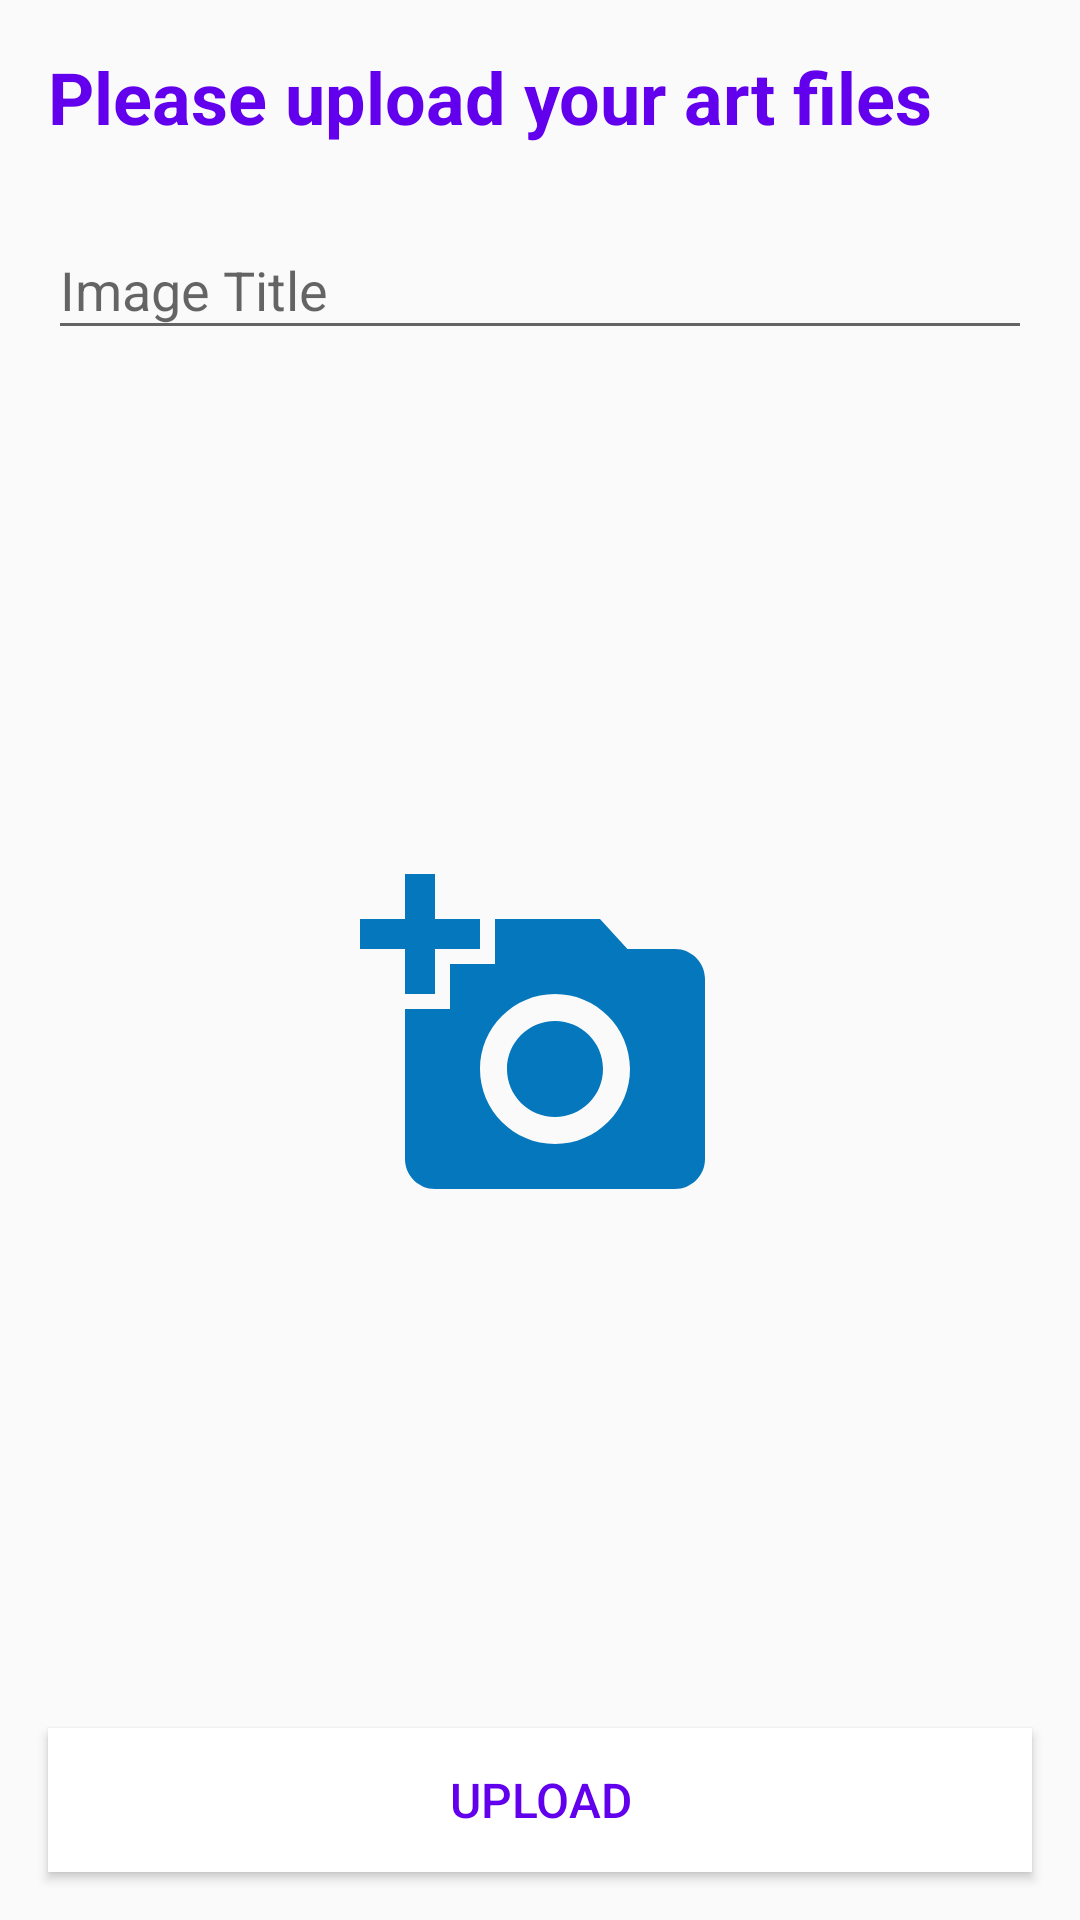

Icon click points for this 1080x1920 phone screenshot, format (x,y):
add photo: (532,1031)
